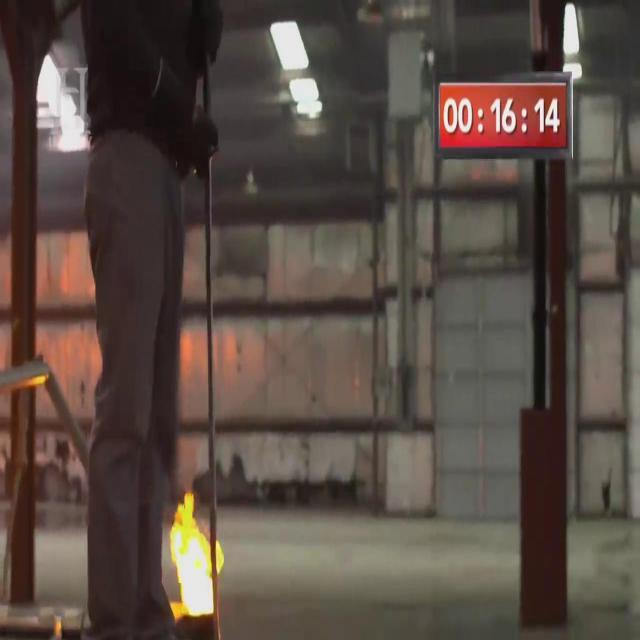Fire: (166, 492, 228, 618)
